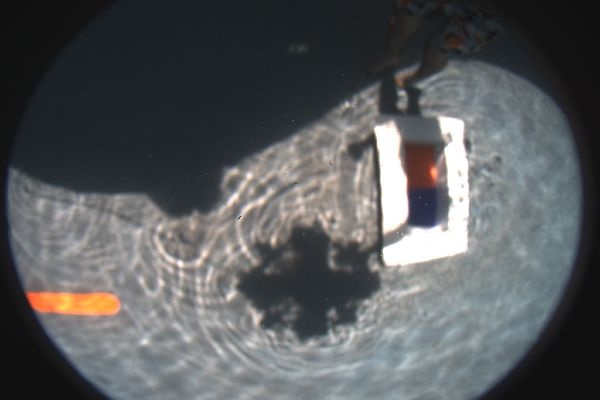bin: (374, 116, 468, 266)
bin_bleue: (408, 189, 436, 225)
bin_rouge: (407, 145, 437, 187)
path: (24, 291, 120, 315)
